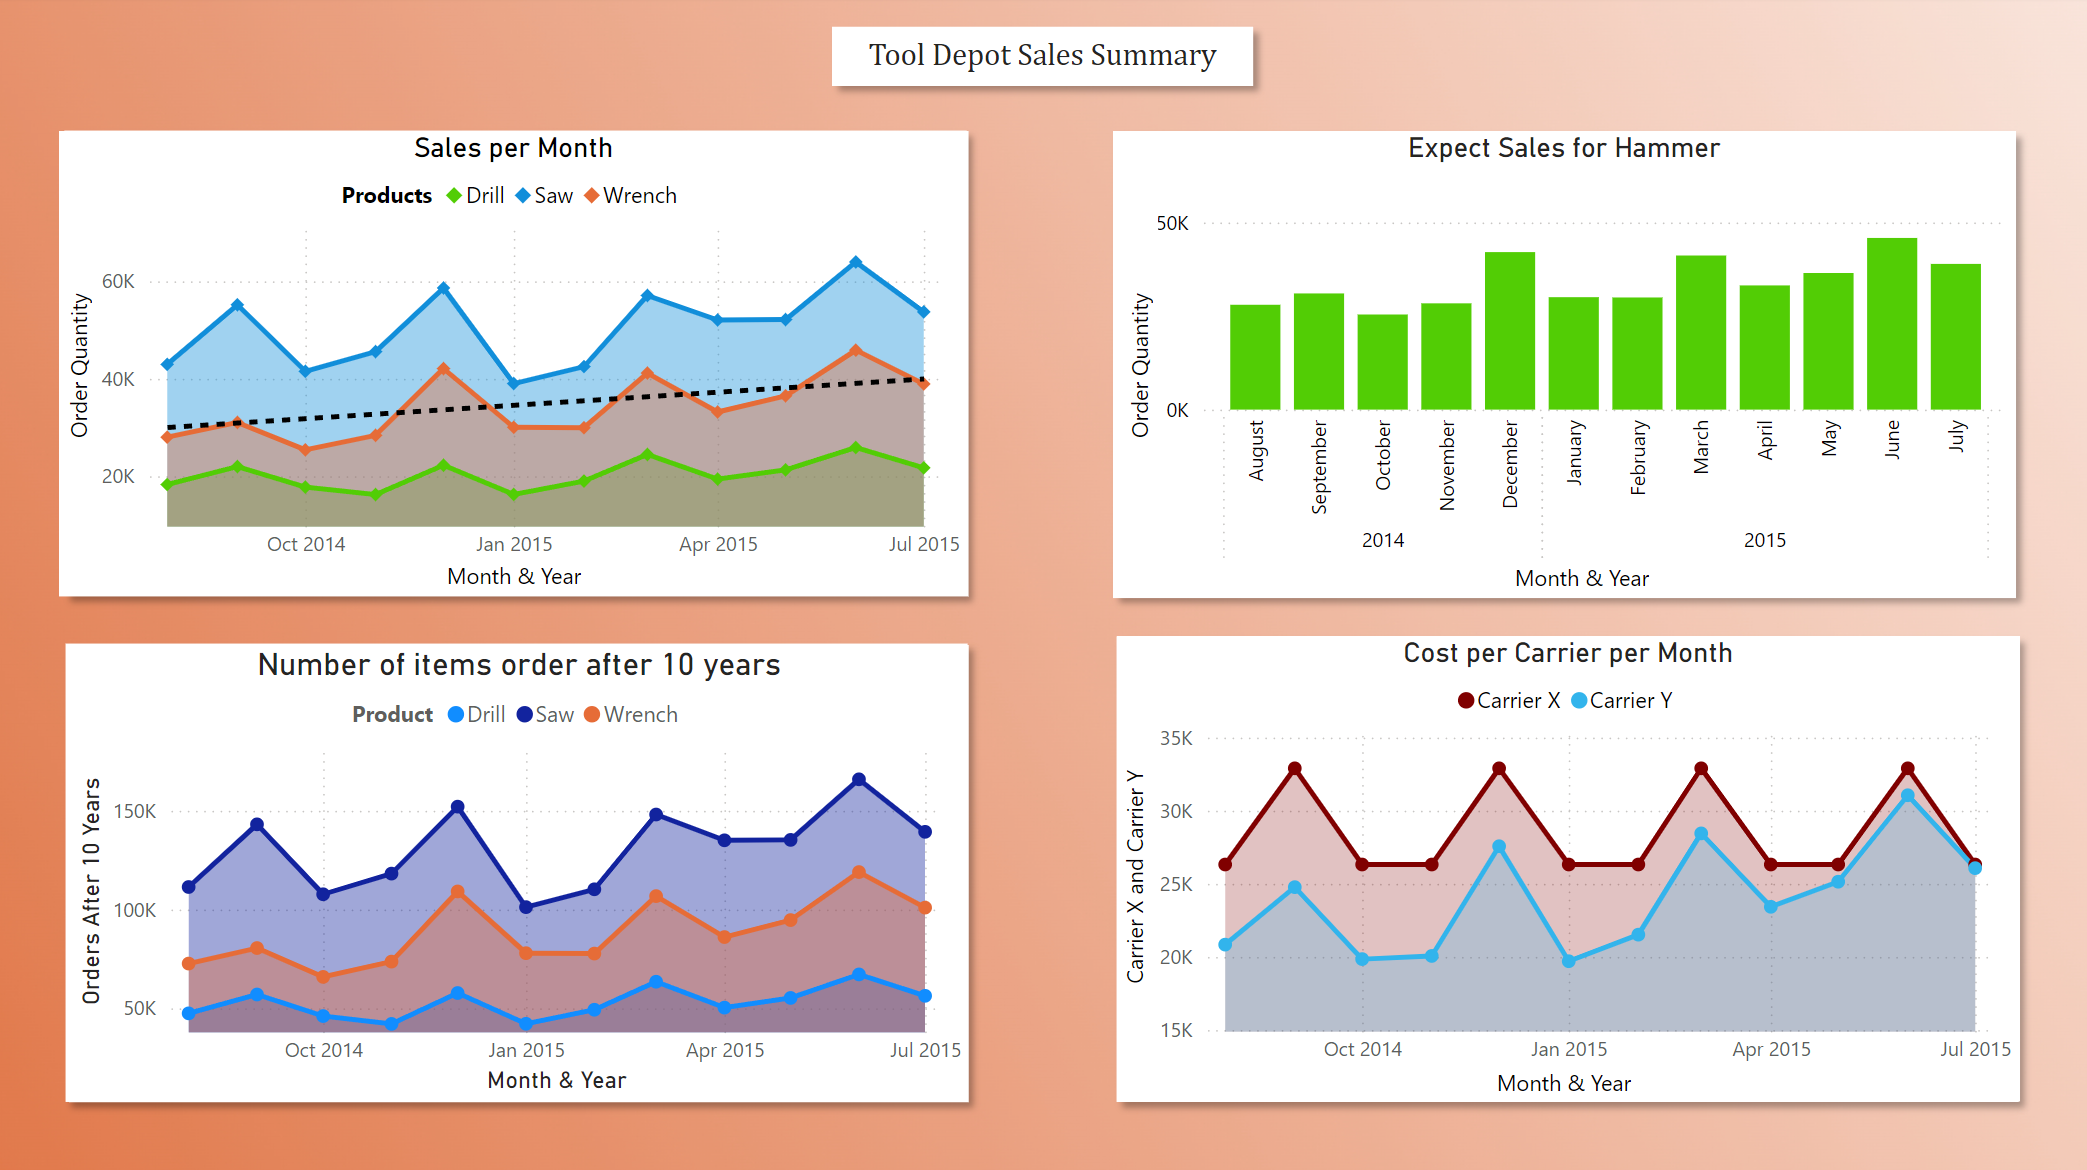

The dashboard page shown, as its layout file describes it:
{"tool":"powerbi","page":{"name":"Dashboard","canvas":[1280,720],"ordinal":0},"visuals":[{"type":"shape","box":[502.5,9.4,274.4,53.8],"z":0},{"type":"shape","box":[676.2,381.2,568.1,301.9],"z":1000},{"type":"shape","box":[35,385.6,568.1,297.5],"z":2000},{"type":"shape","box":[674.4,73.1,568.1,301.9],"z":3000},{"type":"shape","box":[34.4,72.5,568.1,301.9],"z":4000},{"type":"columnChart","title":"Expect Sales for Hammer","fields":{"Category":["wrench_orders.Month.Variation.Date Hierarchy.Year","wrench_orders.Month.Variation.Date Hierarchy.Month"],"Y":["Sum(wrench_orders.Order Qty)"]},"box":[682.5,81.9,550.6,285],"z":5000},{"type":"shape","box":[682.5,121.9,27.5,121.9],"z":6000},{"type":"shape","box":[933.8,343.8,80,19.4],"z":7000},{"type":"shape","box":[933.8,653.8,80,20],"z":8000},{"type":"shape","box":[689.4,175,19.4,98.8],"z":9000},{"type":"shape","box":[43.8,174.4,21.2,120.6],"z":10000},{"type":"shape","box":[39.7,168.4,24.4,111.7],"z":11000},{"type":"shape","box":[920,343.8,97.5,21.9],"z":12000},{"type":"lineChart","title":"Cost per Carrier per Month","fields":{"Category":["Historical_shipments_with_costs.Shipment Date.Variation.Date Hierarchy.Year","Historical_shipments_with_costs.Shipment Date.Variation.Date Hierarchy.Month"],"Y":["Sum(Historical_shipments_with_costs.Carrier X Cost)","Sum(Historical_shipments_with_costs.Carrier Y Cost)"]},"box":[685,390,550.6,283.8],"z":13000},{"type":"shape","box":[909.4,651.9,97.5,21.9],"z":14000},{"type":"shape","box":[268.5,342.3,97,22],"z":15000},{"type":"textbox","box":[511.2,18.1,256.9,36.2],"z":16000},{"type":"shape","box":[686.2,463.1,19.4,146.9],"z":17000},{"type":"lineChart","title":"Sales per Month","fields":{"Series":["Product_info.Product Desc"],"Category":["monthly_product_purchases.Year-Month.Variation.Date Hierarchy.Year","monthly_product_purchases.Year-Month.Variation.Date Hierarchy.Month"],"Y":["Sum(monthly_product_purchases.Order Qty)"]},"box":[39.7,81.8,554.6,283.7],"z":18000},{"type":"shape","box":[42.1,165.4,18.9,118.4],"z":19000},{"type":"shape","box":[268.5,342.3,97.6,22],"z":20000},{"type":"lineChart","title":"Number of items order after 10 years","fields":{"Y":["Sum(after 10 years.Order Qty After 10)"],"Series":["Product_info.Product Desc"],"Category":["after 10 years.Order Dt.Variation.Date Hierarchy.Year","after 10 years.Order Dt.Variation.Date Hierarchy.Month"]},"box":[45.5,395.3,549.4,278.7],"z":21000}]}

Visuals, with their boxes in screenshot pixels (x1, y1, x2, y2), scaled from the page's 1280x720 canvas onto the 2087x1170 screenshot:
shape: detection(819, 15, 1267, 103)
shape: detection(1103, 619, 2029, 1110)
shape: detection(57, 627, 983, 1110)
shape: detection(1100, 119, 2026, 609)
shape: detection(56, 118, 982, 608)
"Expect Sales for Hammer" columnChart: detection(1113, 133, 2011, 596)
shape: detection(1113, 198, 1158, 396)
shape: detection(1523, 559, 1653, 590)
shape: detection(1523, 1062, 1653, 1095)
shape: detection(1124, 284, 1156, 445)
shape: detection(71, 283, 106, 479)
shape: detection(65, 274, 105, 455)
shape: detection(1500, 559, 1659, 594)
"Cost per Carrier per Month" lineChart: detection(1117, 634, 2015, 1095)
shape: detection(1483, 1059, 1642, 1095)
shape: detection(438, 556, 596, 592)
textbox: detection(833, 29, 1252, 88)
shape: detection(1119, 753, 1150, 991)
"Sales per Month" lineChart: detection(65, 133, 969, 594)
shape: detection(69, 269, 99, 461)
shape: detection(438, 556, 597, 592)
"Number of items order after 10 years" lineChart: detection(74, 642, 970, 1095)
